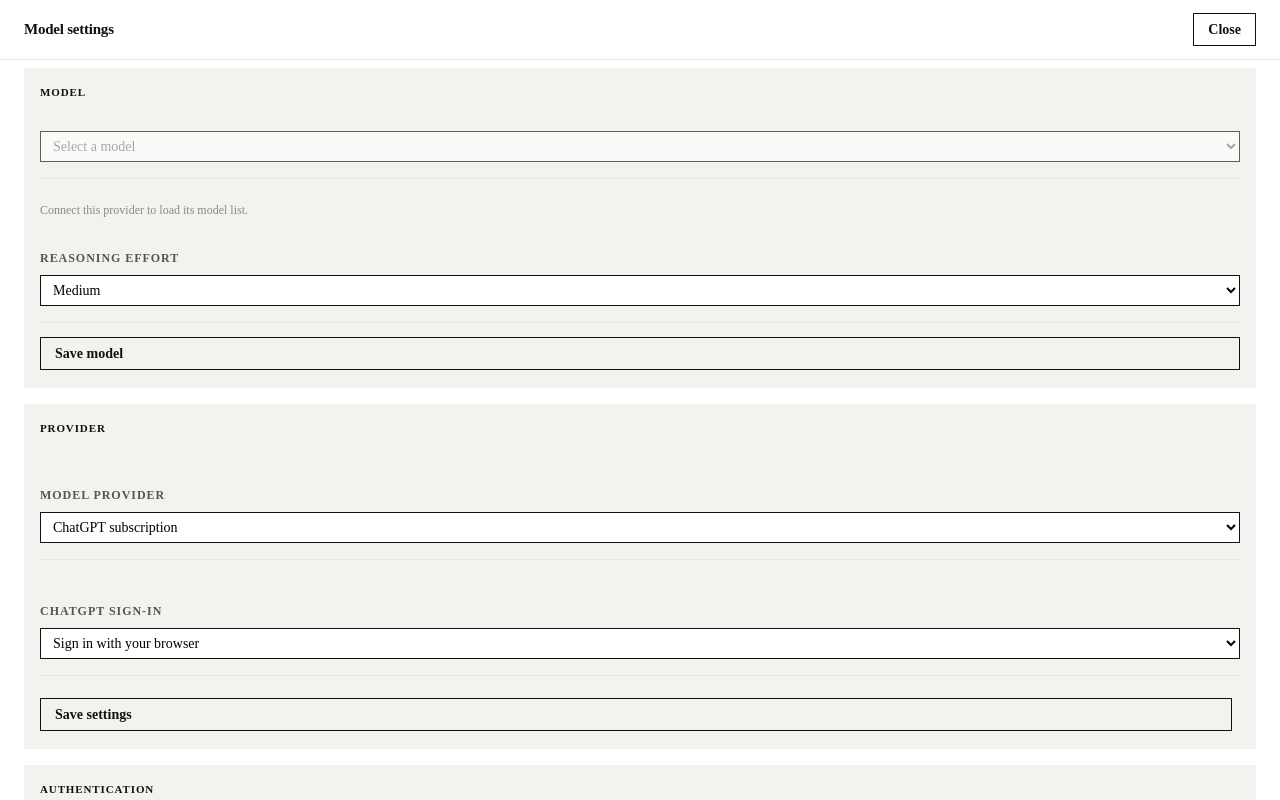
Test: ModelSettings › maps backend schema errors to local text and omits unknown server details
The width and height of the screenshot is (1280, 800).
Expected: the dropdown labelled "Model provider" is shown, [40,512,1240,543]
Select "Use an existing local Codex login" in the dropdown labelled "ChatGPT sign-in" at {"x": 640, "y": 644}, box [40,628,1240,659]
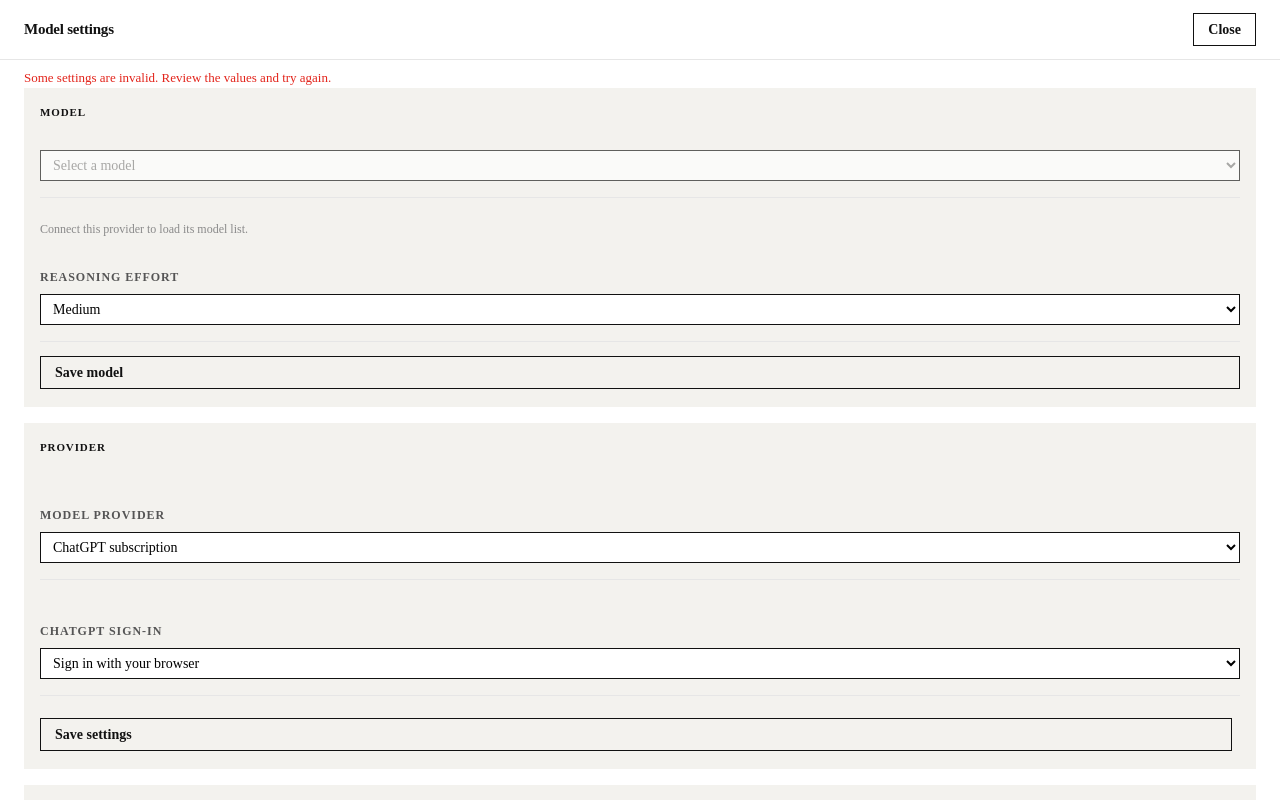
Now the message reads "Some settings are invalid. Review the values and try again.", box [24,70,331,85]
